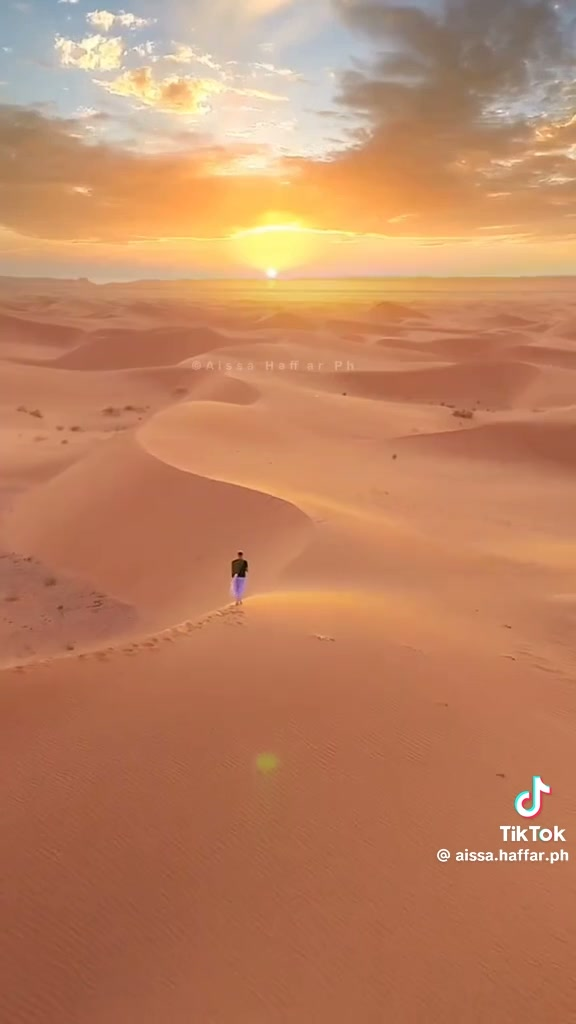human_footprint: (74, 613, 213, 667)
